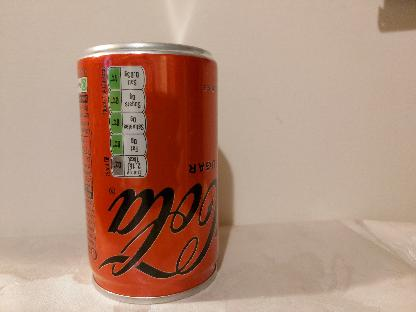Can: (76, 41, 220, 303)
